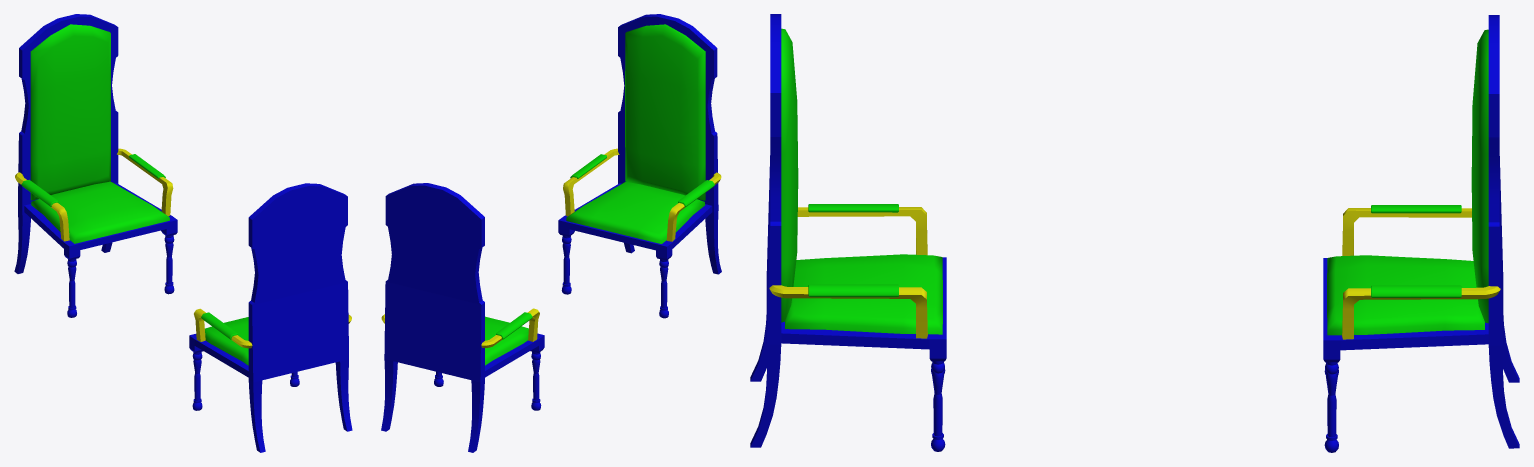
Rendered from SM_DeskChairs_001.fbx.
3 views of the same model, side by side, from view 1: azimuth 30°, elevation 25°; view 2: azimuth 150°, elevation 25°; view 3: azimuth 270°, elevation 25° (orthographic). The views are drawn at different scales.
Visible parts, largest first — view 1: DeskChair_001; view 2: DeskChair_001; view 3: DeskChair_001.
Part boxes in pixels (x1=…): DeskChair_001: x1=14, y1=14, x2=352, y2=452; DeskChair_001: x1=381, y1=14, x2=721, y2=452; DeskChair_001: x1=750, y1=14, x2=1519, y2=452.
Size of the model in its own units: 67.58 by 137 by 247.
